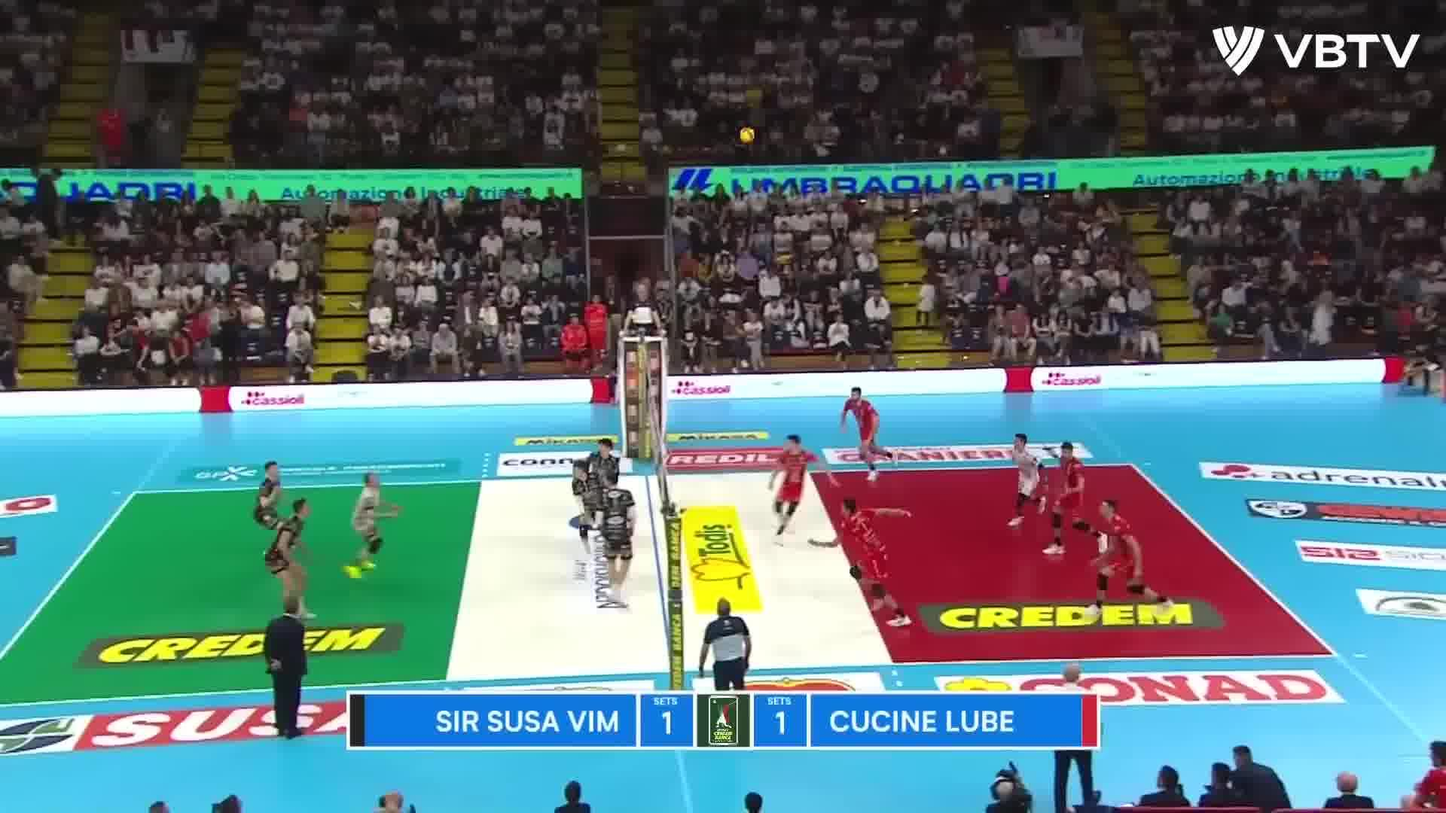balls: (738, 122, 759, 148)
